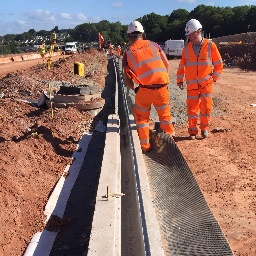helmet: (182, 19, 206, 41), (124, 19, 147, 40)
person: (120, 19, 182, 148), (175, 16, 226, 138)
vest: (178, 41, 223, 97), (125, 38, 169, 89)
